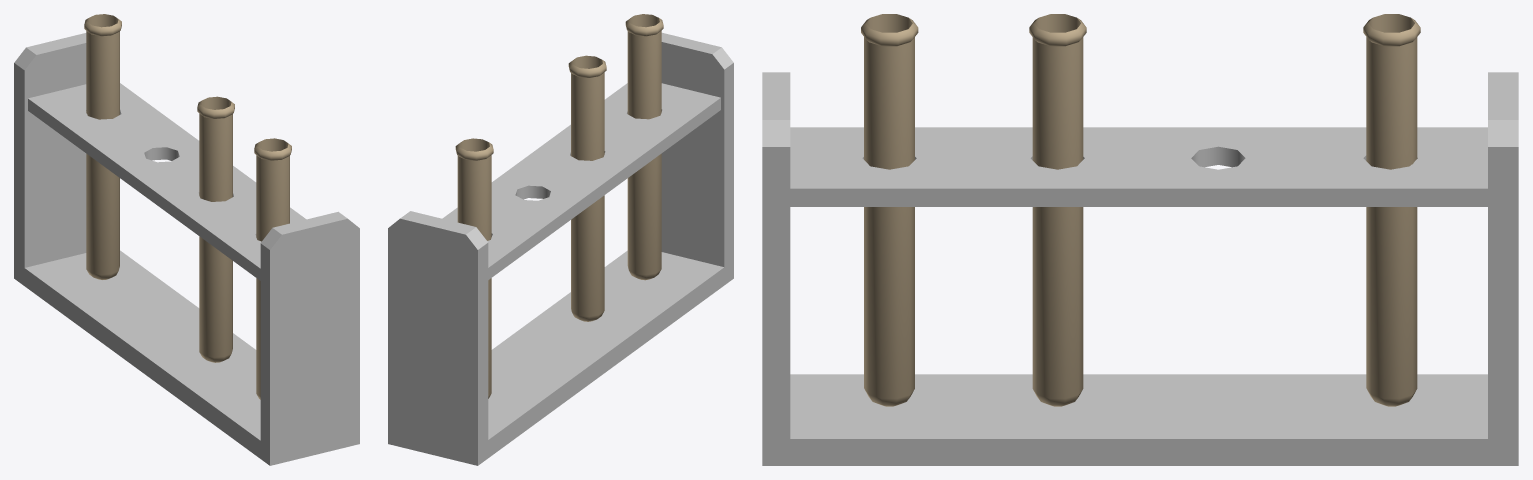
File: SM_Coaster_B_01.fbx
The picture shows the model from 3 angles, left to right: view 1: azimuth 30°, elevation 25°; view 2: azimuth 150°, elevation 25°; view 3: azimuth 270°, elevation 25°; orthographic projection. The views are drawn at different scales.
Visible parts, largest first — view 1: SM_Coaster_B_01; view 2: SM_Coaster_B_01; view 3: SM_Coaster_B_01.
Part boxes in pixels (<box>): SM_Coaster_B_01: <box>14,14,359,465</box>; SM_Coaster_B_01: <box>388,14,733,465</box>; SM_Coaster_B_01: <box>762,14,1518,465</box>.
Bounding box in the file's own units: 6.24 × 18.48 × 30.81.
